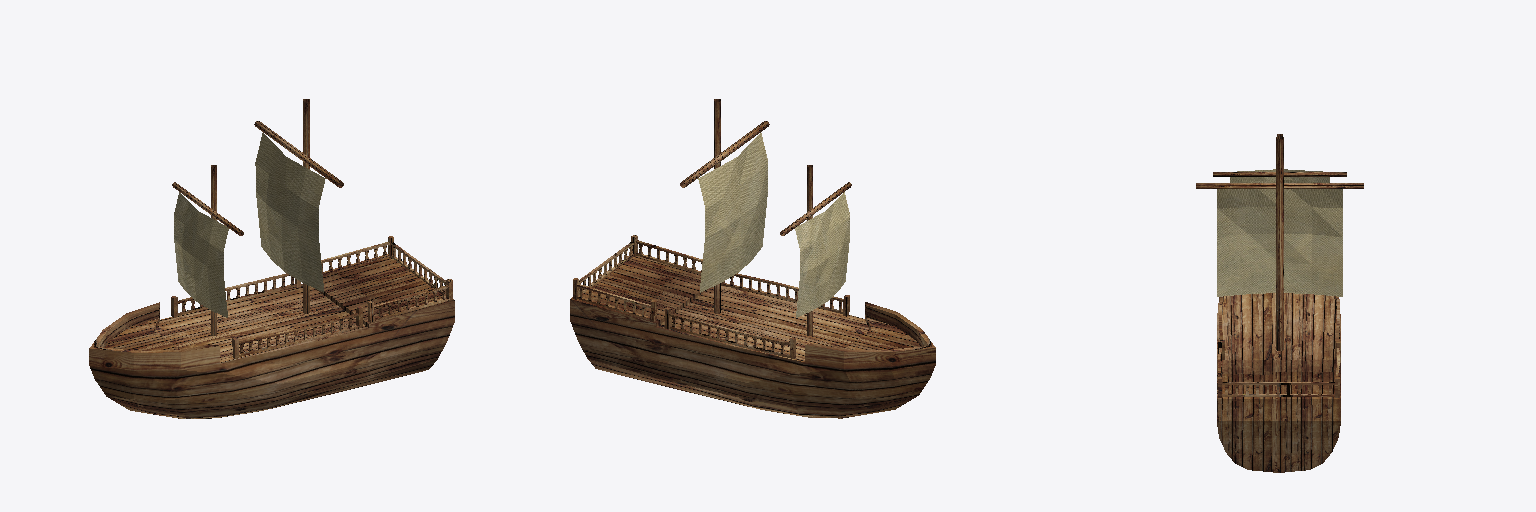
The picture shows the model from 3 angles: view 1: azimuth 30°, elevation 25°; view 2: azimuth 150°, elevation 25°; view 3: azimuth 270°, elevation 25°; orthographic projection.
Parts seen in each view (by area): view 1: Cube_Cube.001, Cube.002_Cube.010, Cube.010_Cube.000, Cube.007_Cube.015, Cube.009_Cube.014, Cube.005_Cube.006; view 2: Cube_Cube.001, Cube.002_Cube.010, Cube.010_Cube.000, Cube.007_Cube.015, Cube.009_Cube.014, Cube.005_Cube.006; view 3: Cube_Cube.001, Cube.002_Cube.010, Cube.005_Cube.006.
Part boxes in pixels (bbox=[...]): Cube_Cube.001: bbox=[89, 257, 454, 418]; Cube.002_Cube.010: bbox=[172, 99, 343, 335]; Cube.010_Cube.000: bbox=[171, 236, 393, 317]; Cube.007_Cube.015: bbox=[232, 306, 362, 358]; Cube.009_Cube.014: bbox=[367, 279, 452, 322]; Cube.005_Cube.006: bbox=[391, 242, 445, 294]; Cube_Cube.001: bbox=[570, 256, 935, 418]; Cube.002_Cube.010: bbox=[680, 99, 851, 335]; Cube.010_Cube.000: bbox=[573, 278, 795, 358]; Cube.007_Cube.015: bbox=[721, 273, 849, 316]; Cube.009_Cube.014: bbox=[631, 235, 702, 274]; Cube.005_Cube.006: bbox=[579, 241, 633, 295]; Cube_Cube.001: bbox=[1217, 293, 1340, 472]; Cube.002_Cube.010: bbox=[1196, 134, 1363, 350]; Cube.005_Cube.006: bbox=[1222, 382, 1334, 396].
Size of the model in its own units: 6.2 by 5.08 by 2.69.
Materials: 2 (2 with a texture image).